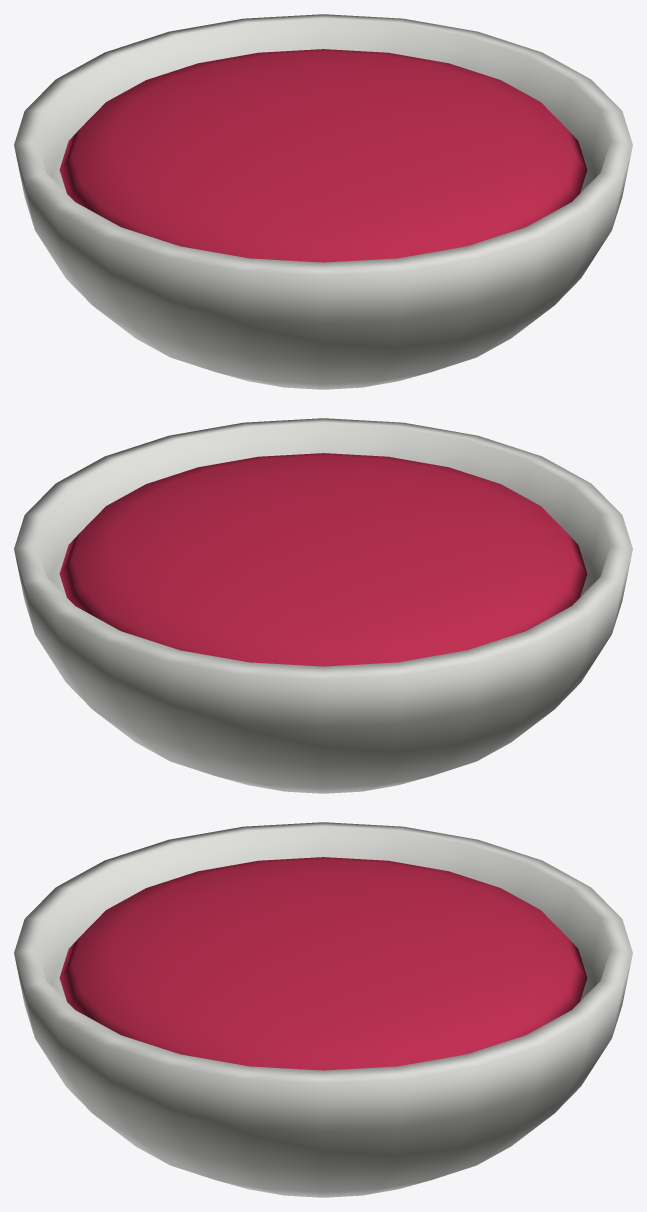
Rendered from bowl-cranberry.glb.
3 views of the same model, one above another, from view 1: azimuth 30°, elevation 25°; view 2: azimuth 150°, elevation 25°; view 3: azimuth 270°, elevation 25° (orthographic).
Visible parts, largest first — view 1: bowl, cranberry; view 2: bowl, cranberry; view 3: bowl, cranberry.
Boxes of the visible parts, x1,y1,x2,y2 form: bowl: (14,14,632,389); cranberry: (59,49,587,262); bowl: (14,418,632,793); cranberry: (59,453,587,666); bowl: (14,822,632,1197); cranberry: (59,857,587,1070).
Size of the model in its own units: 0.1618 by 0.0605 by 0.1618.
